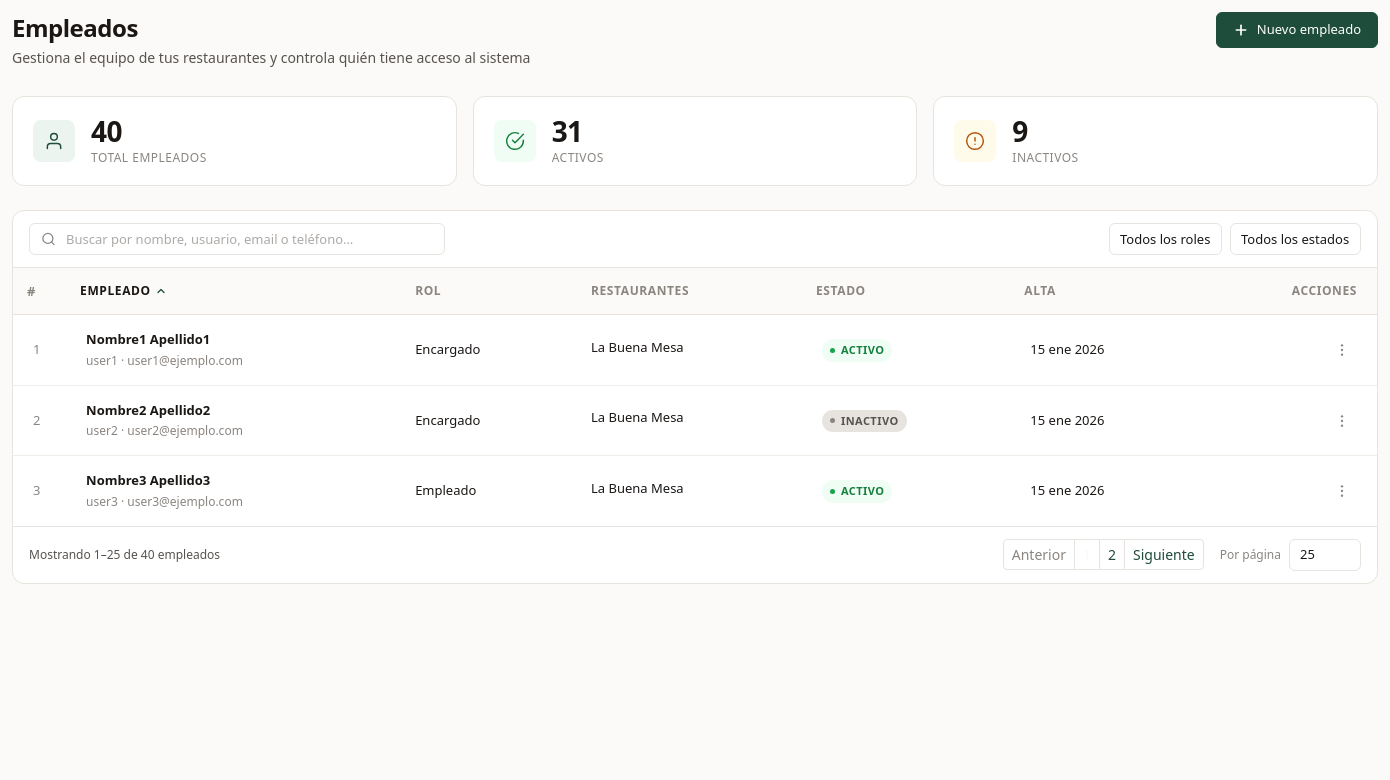
Test case: Empleados — búsqueda y filtros › muestra el estado sin resultados y permite limpiar los filtros
The image size is (1390, 780).
Expected: the text "Nombre1 Apellido1" is shown, [86,330,210,348]
Type "zzz" into the search field named "buscar empleados" at [237, 239], box [29,223,445,255]
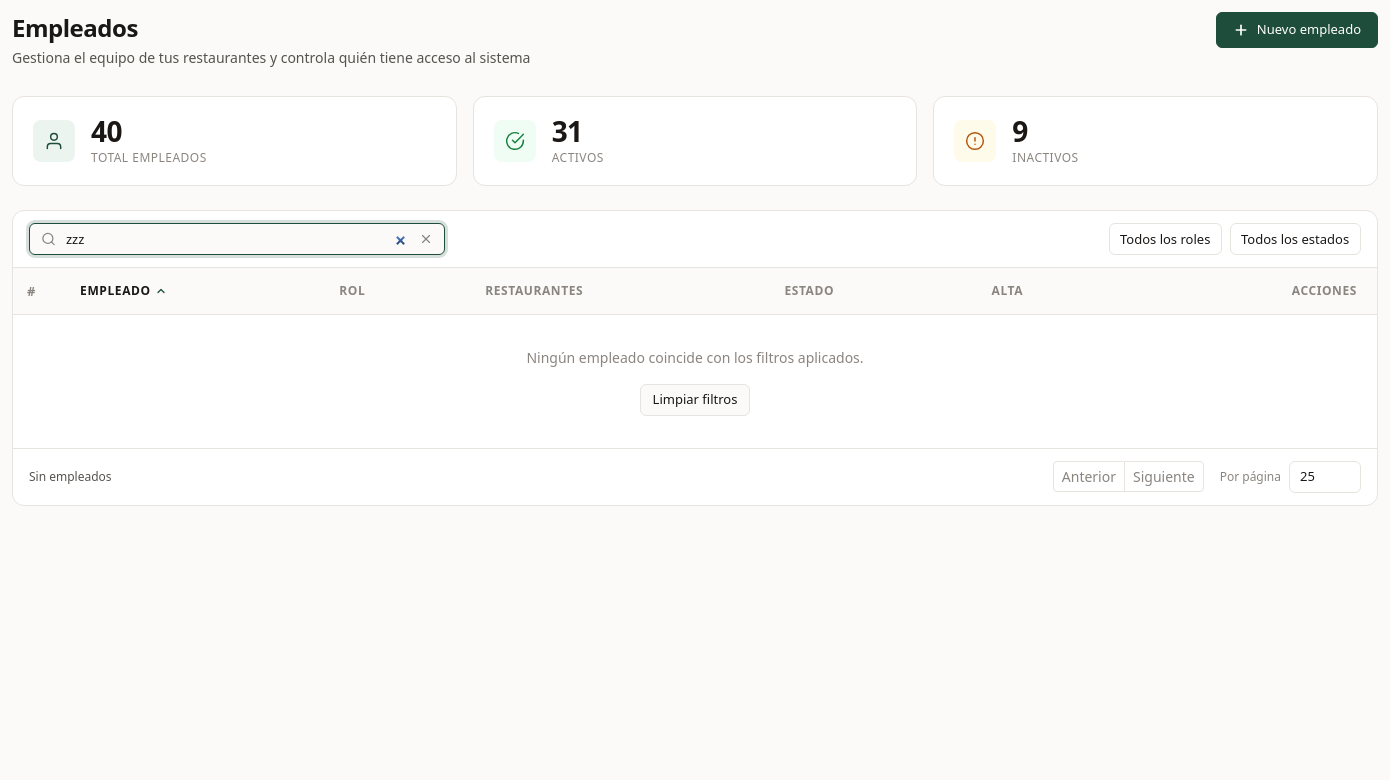
Expected: the text "Ningún empleado coincide con los filtros aplicados." is shown, [526,348,864,367]
Click the button "Limpiar filtros" at [695, 400], box [640,384,750,416]
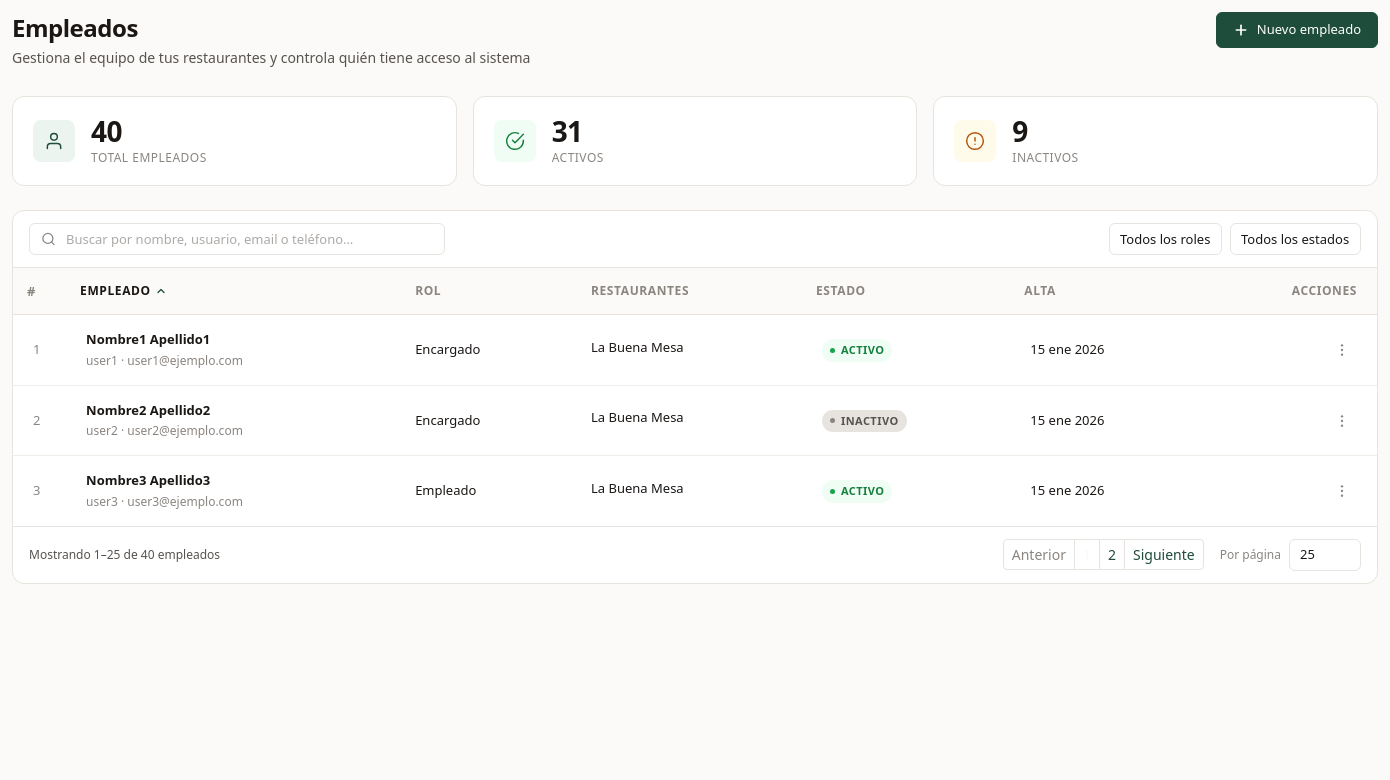
Expected: the text "Nombre1 Apellido1" is shown, [86,330,210,348]
